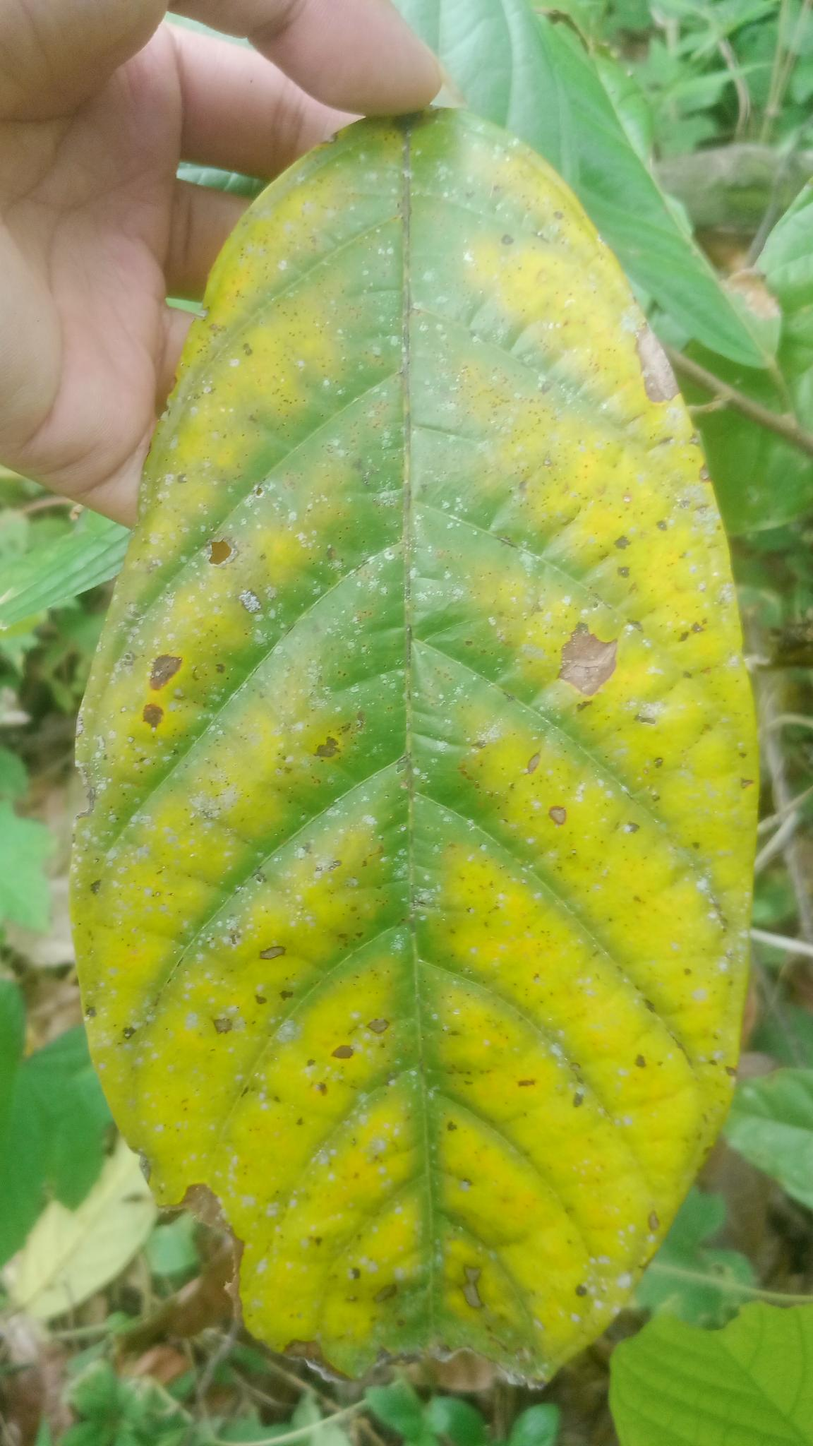Potasio: (68, 109, 764, 1401)
